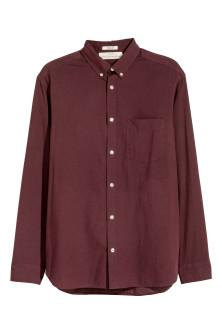teeshirt: (9, 38, 215, 295)
